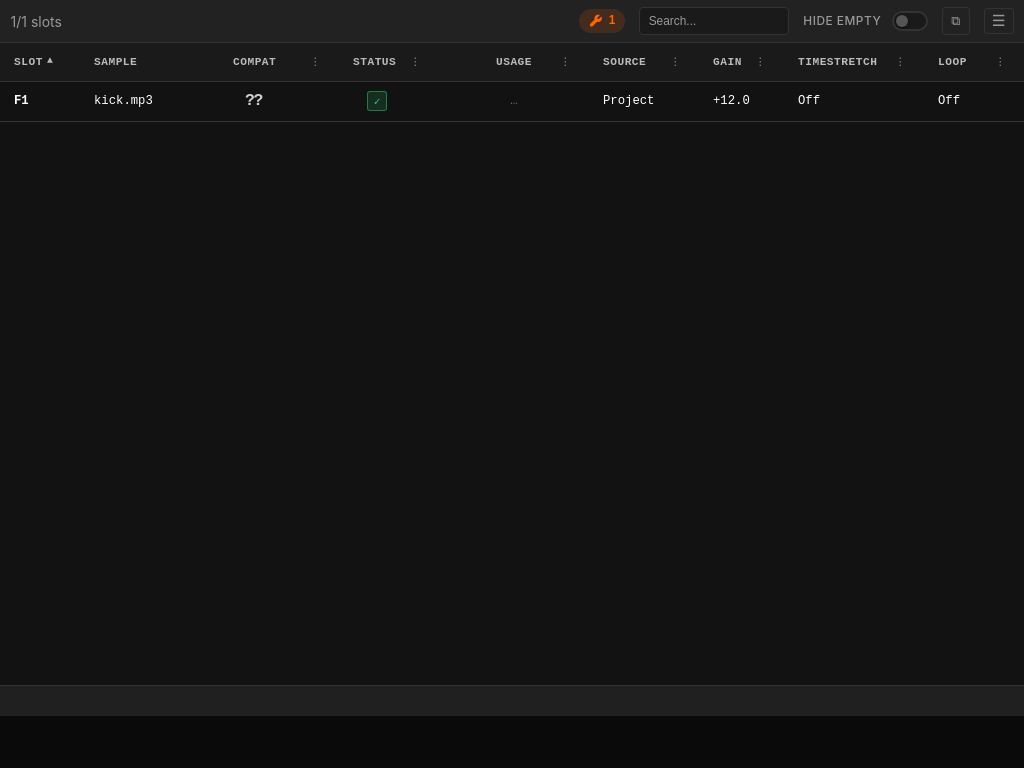
Test: SampleSlotsTable — slot context menu & Audio Pool page button › shows "Convert to Octatrack format" in the slot context menu, disabled unless Edit mode is on, a file exists, and it is incompatible
Right-click the text "kick.mp3": (512, 101) [0,81,1023,121]
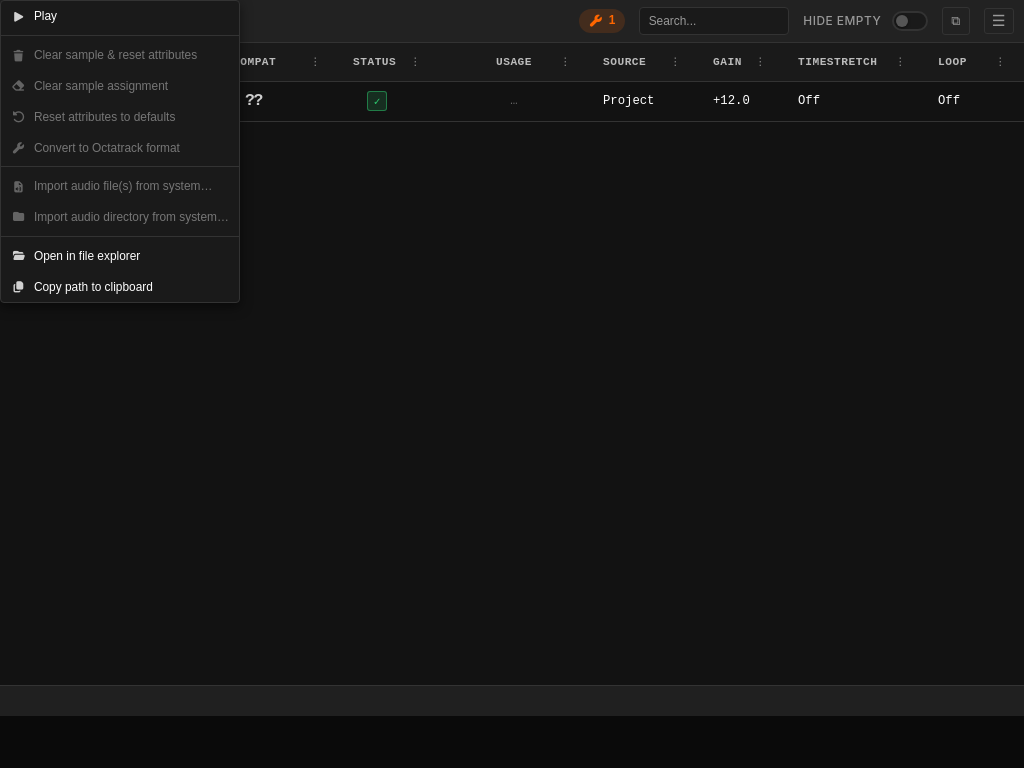
Now the button "Convert to Octatrack format" is disabled, box [1,132,239,163]
